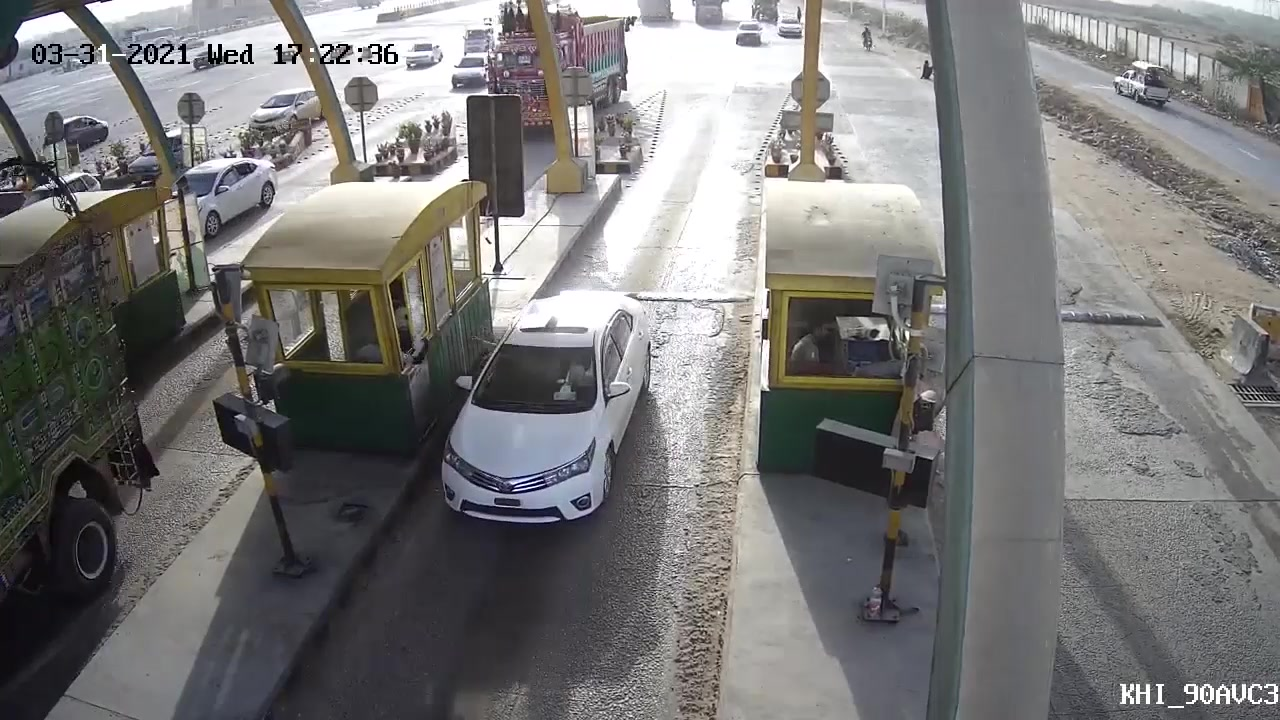F1: (414, 279, 660, 560)
